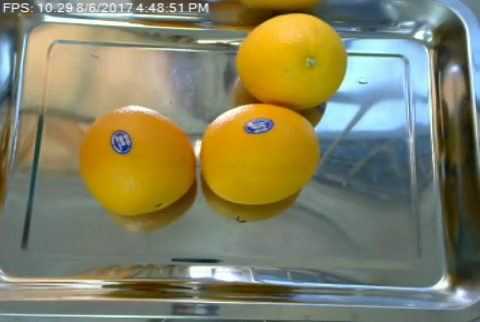Orange: (79, 103, 196, 216), (201, 104, 322, 204), (236, 11, 347, 111)
